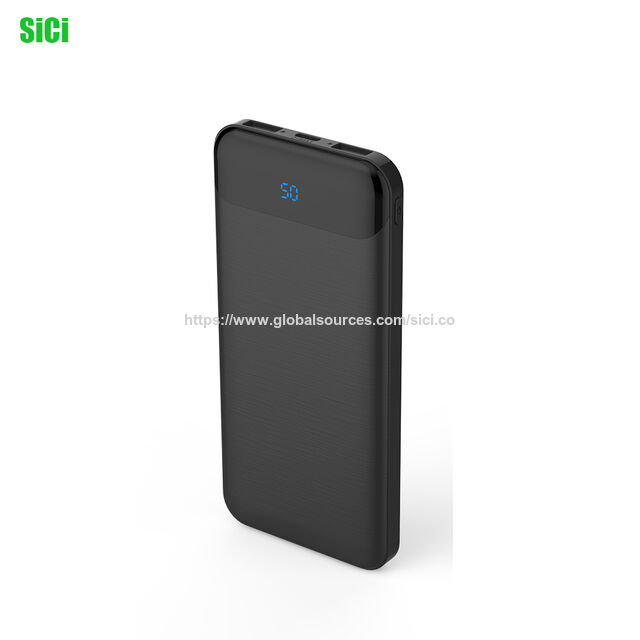powerbank: (214, 120, 402, 569)
